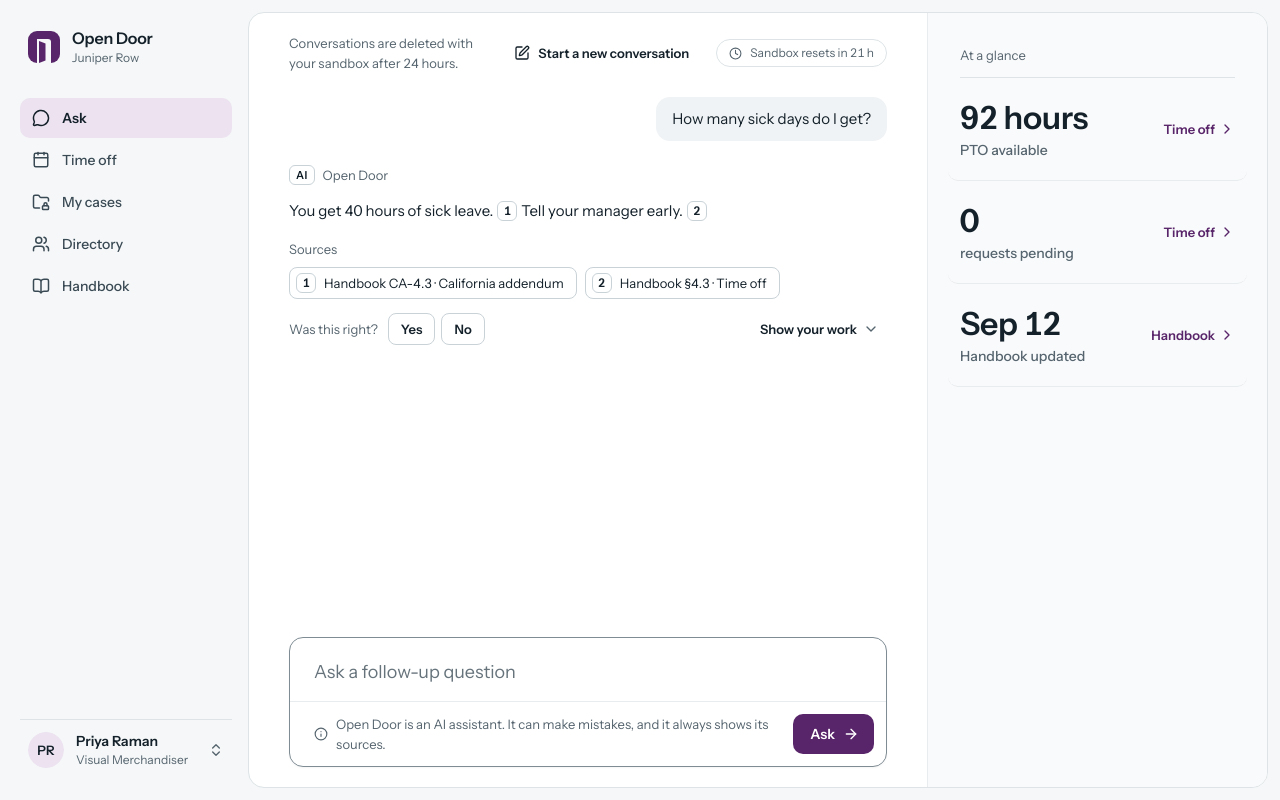
Test: the budget › shows the 429’s own words under the box when the conversation read has no banner (a long question the smallest one would not have been refused for)
Type "A very long question" into the text box named "Ask Open Door" at (588, 666), box [290,638,886,694]
Then press Enter
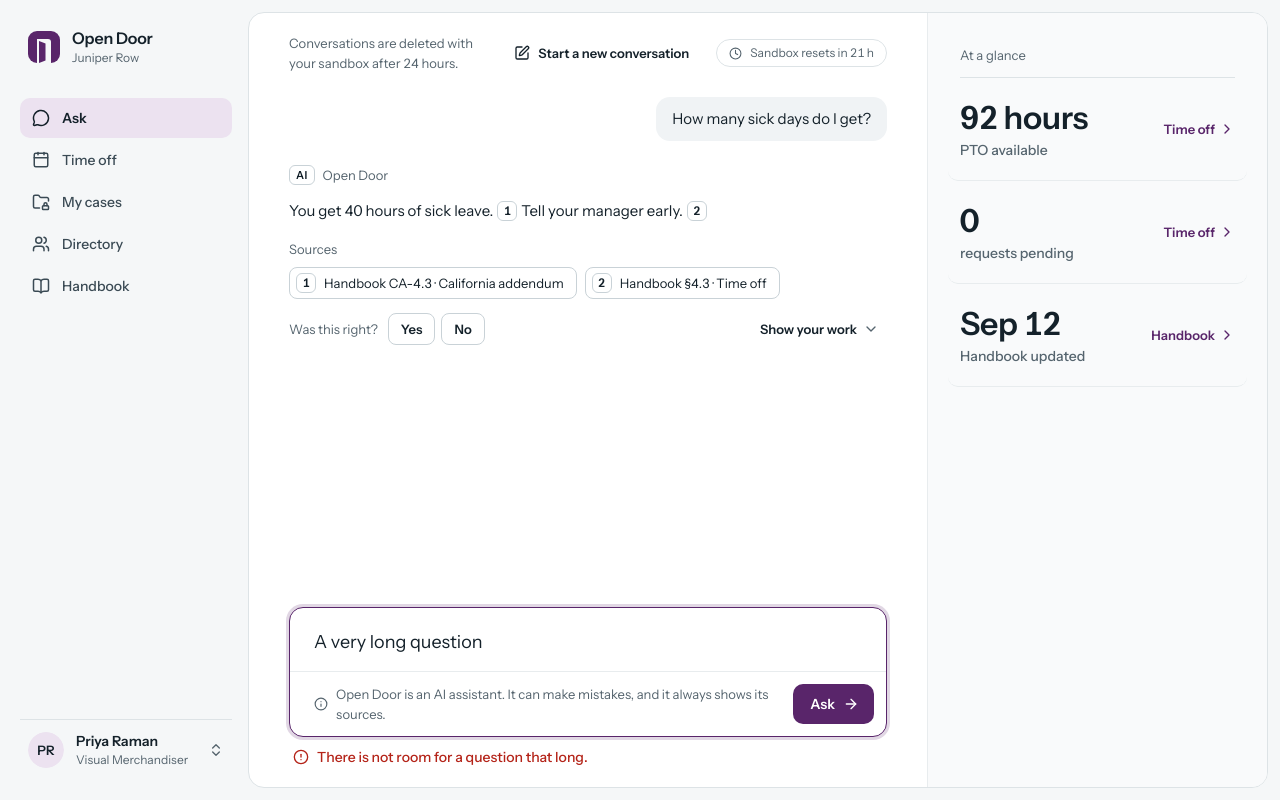
Expected: the text box named "Ask Open Door" is enabled, [290,608,886,664]
Expected: the message reads "There is not room for a question that long.", [317,748,588,766]
